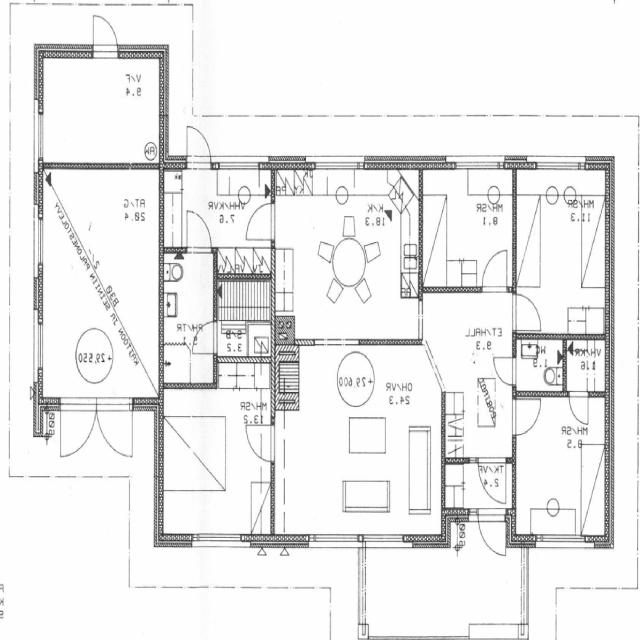door: (96, 397, 132, 463), (60, 397, 96, 463), (478, 508, 505, 560), (478, 458, 506, 503), (187, 121, 211, 170), (94, 9, 118, 57), (246, 426, 275, 462), (246, 203, 275, 239), (512, 399, 541, 435), (482, 251, 507, 292), (187, 212, 211, 253), (512, 295, 540, 330), (190, 321, 217, 354), (46, 131, 68, 170), (493, 358, 516, 385), (570, 391, 588, 423)
